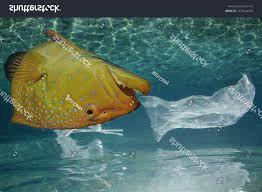Trash: (143, 61, 256, 147)
